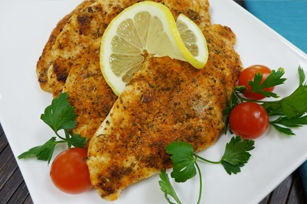background: (8, 0, 147, 65)
